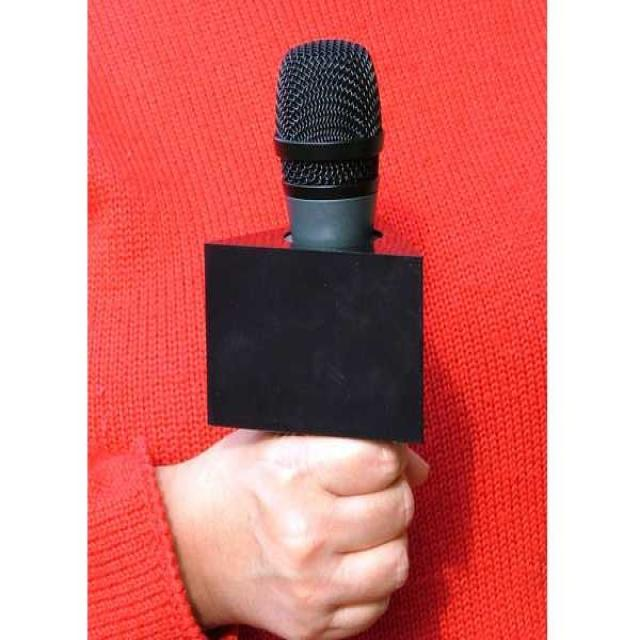microphone: (203, 34, 425, 444), (272, 37, 384, 254)
